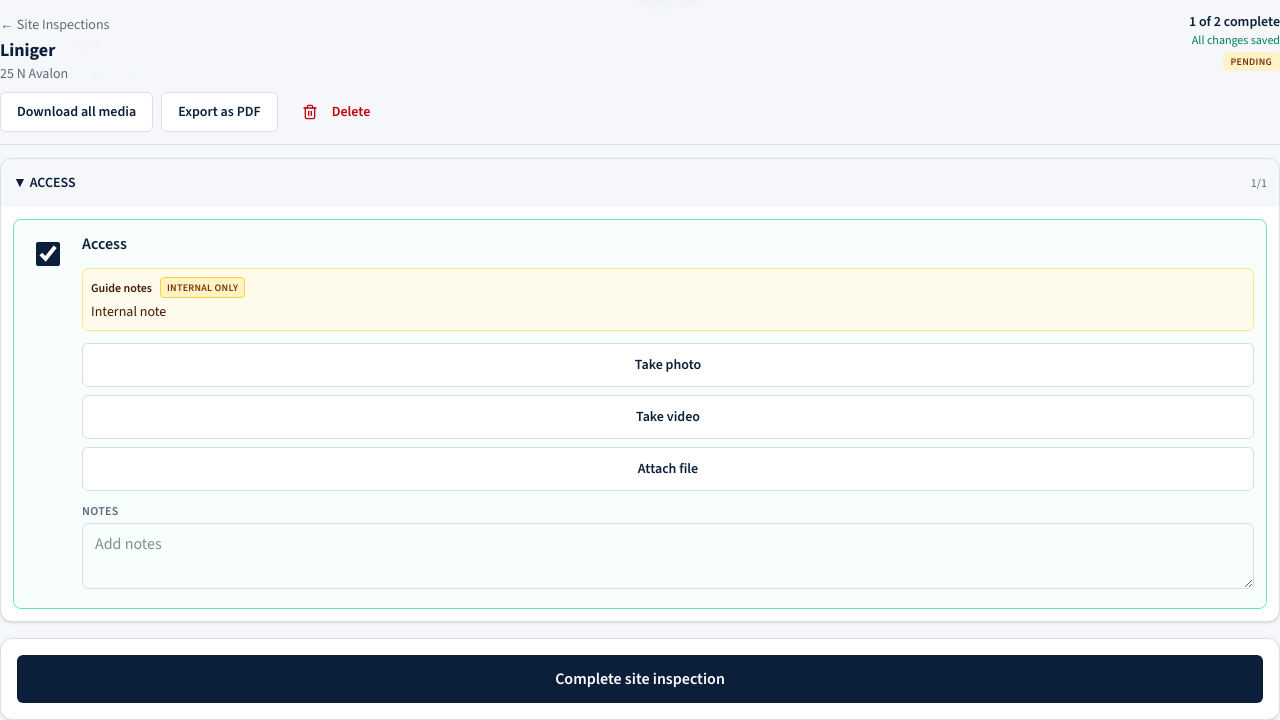
Test: complete site inspection UI › offers to wait when uploads are pending
(page scrolled)
Click the button "Complete site inspection".
click(640, 679)  # box [17,655,1263,703]
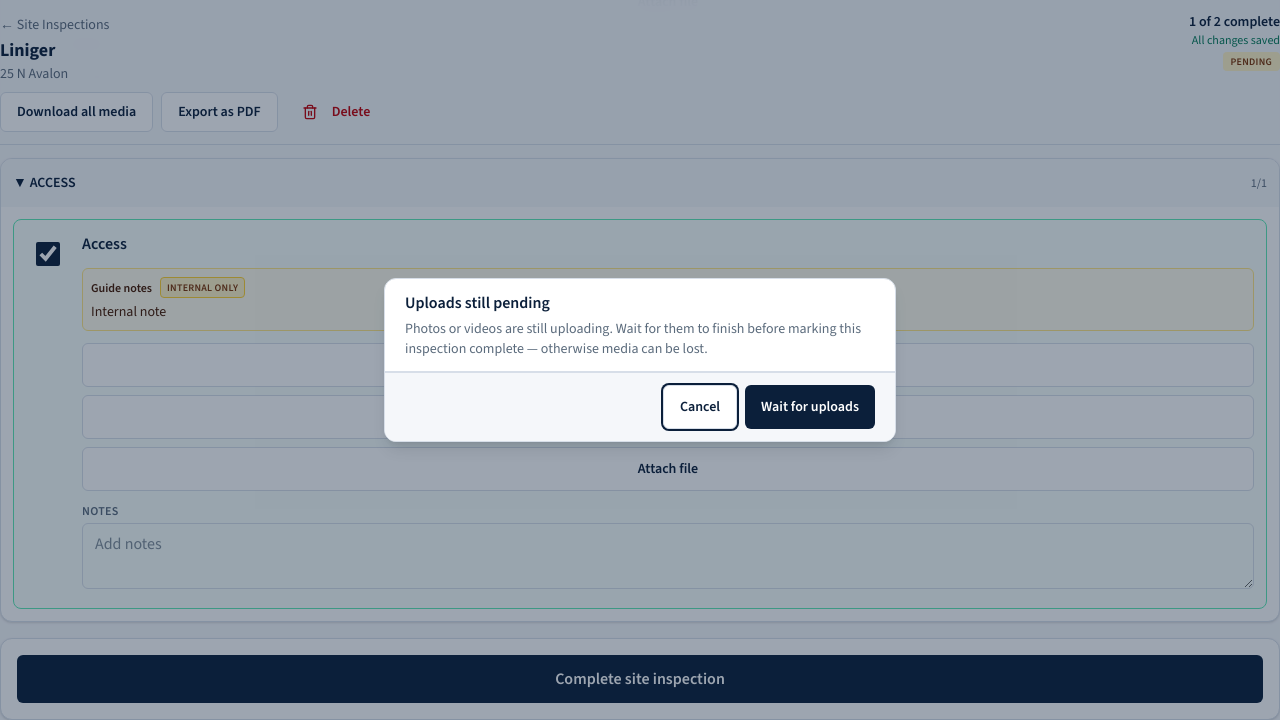
Expected: the heading "Uploads still pending" is shown, [405,292,550,313]
Expected: the button "Wait for uploads" is shown, [745,385,875,429]
